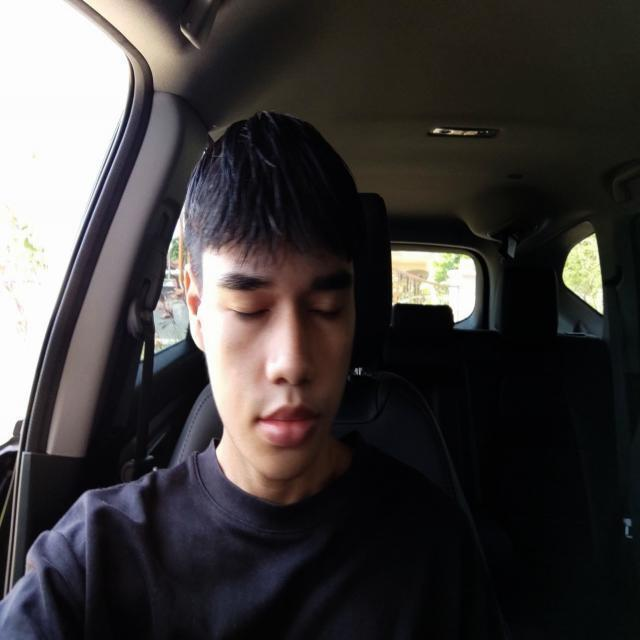sleepy: (220, 258, 349, 465)
